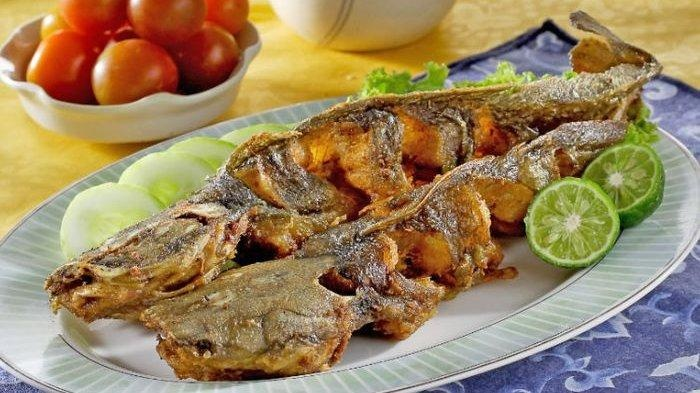pecel_lele: (45, 74, 542, 314), (149, 119, 534, 375)
